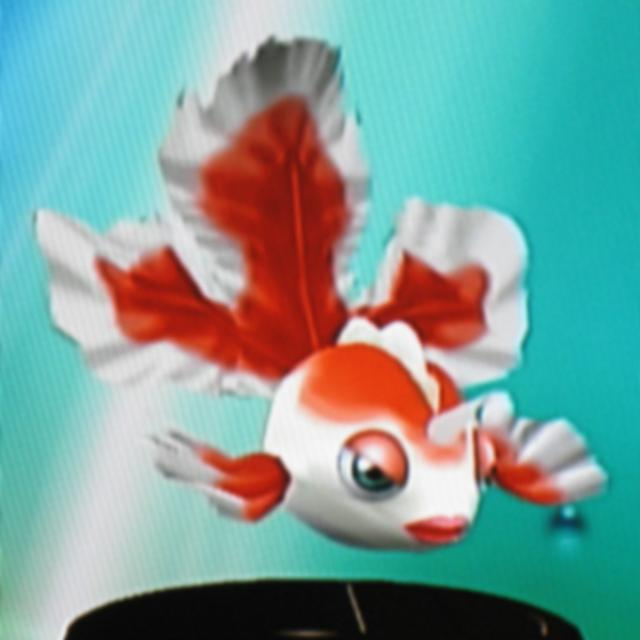Goldeen: (154, 187, 600, 562)
